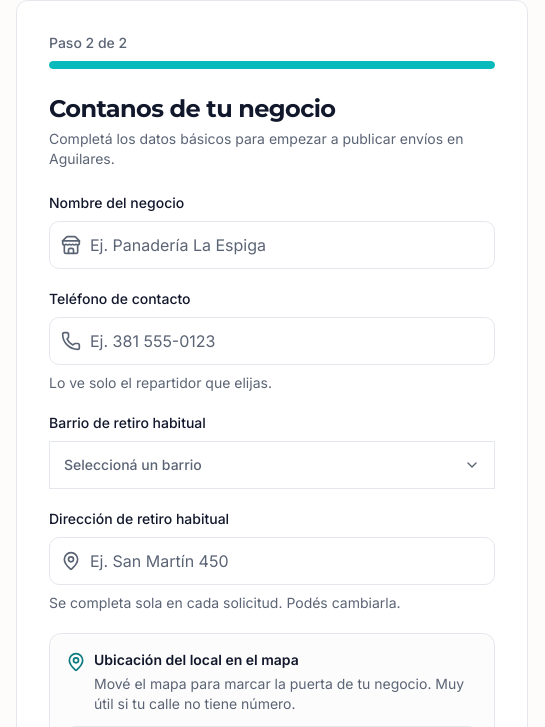
it: T-116 / T-111: MerchantOnboardingForm con componente de mapa › T-326: selector de barrio con el Select del proyecto › muestra el placeholder y, al abrir, un listbox con todos los barrios en el orden recibido
The image size is (545, 727).
Click the dropdown named "barrio de retiro" at (133, 464), box [49,441,495,489]
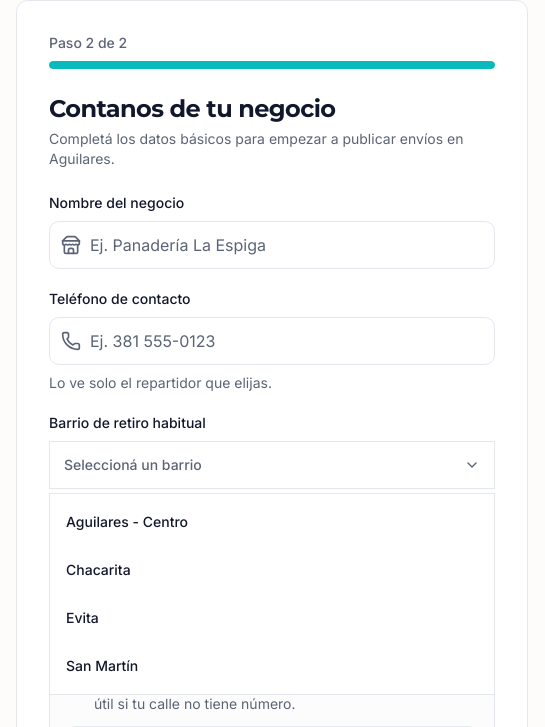
Result: the options read "Aguilares - Centro", "Chacarita", "Evita", "San Martín", in this order at [54,498,490,546]; [54,546,490,594]; [54,594,490,642]; [54,642,490,690]
